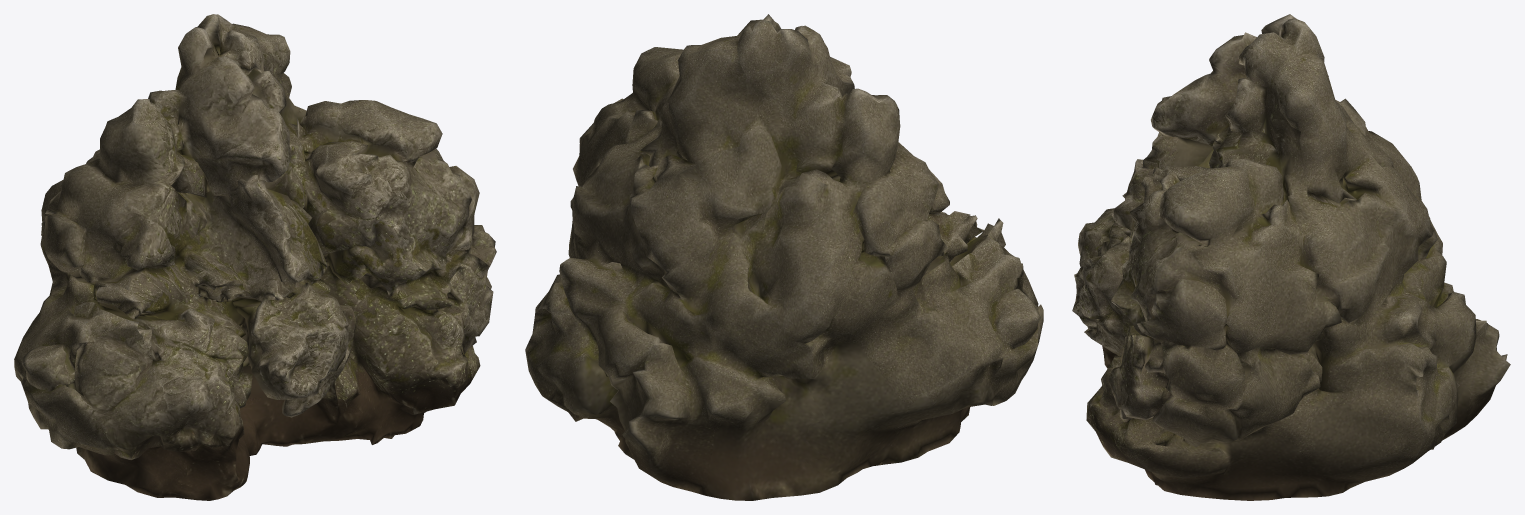
Rendered from nat-rock-a.fbx.
3 views of the same model, side by side, from view 1: azimuth 30°, elevation 25°; view 2: azimuth 150°, elevation 25°; view 3: azimuth 270°, elevation 25° (orthographic). The views are drawn at different scales.
Visible parts, largest first — view 1: Mesh_0; view 2: Mesh_0; view 3: Mesh_0.
Part boxes in pixels (x1,y1,x2,y2): Mesh_0: [14, 14, 496, 500]; Mesh_0: [525, 14, 1043, 500]; Mesh_0: [1072, 14, 1510, 500].
Size of the model in its own units: 95.8 by 80.37 by 79.35.
1 material, 1 textured.
